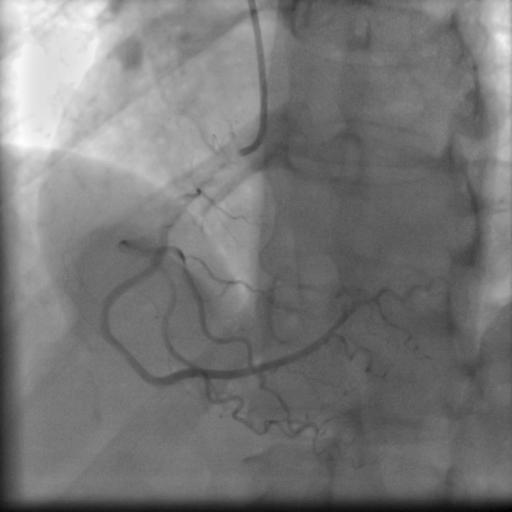Stenosis: (112, 333, 145, 373)
